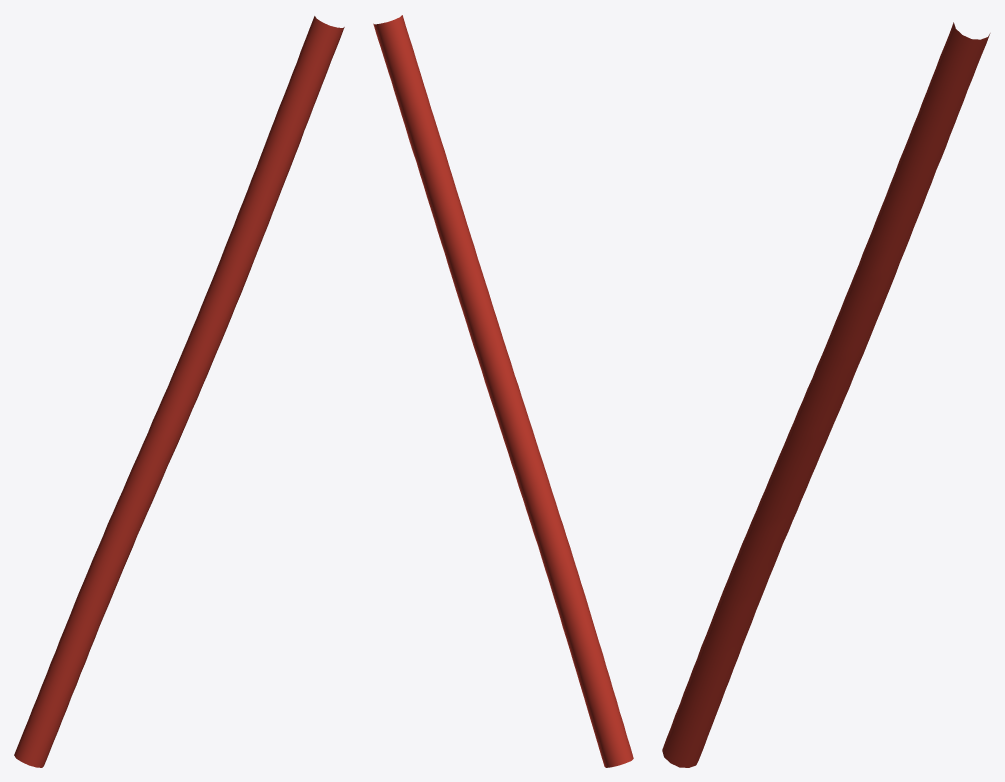
The model's file is radial_artery_right.glb.
3 renders of one model, left to right at view 1: azimuth 30°, elevation 25°; view 2: azimuth 150°, elevation 25°; view 3: azimuth 330°, elevation 25°, orthographic. The views are drawn at different scales.
Bounding box in the file's own units: 0.0898 × 0.2031 × 0.0234.
